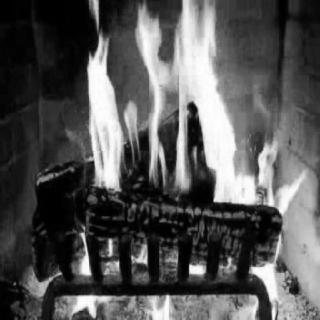Fire: (14, 2, 318, 314)
